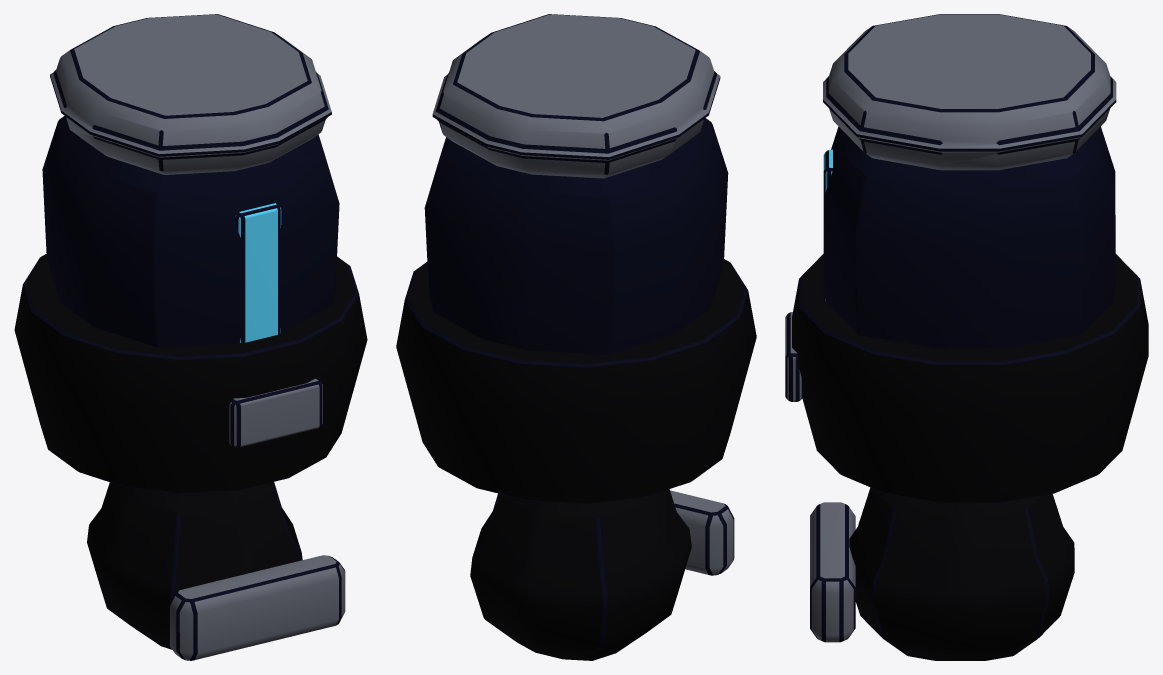
File: Ecos_LuvaL.fbx
3 views of the same model, side by side, from view 1: azimuth 30°, elevation 25°; view 2: azimuth 150°, elevation 25°; view 3: azimuth 270°, elevation 25° (orthographic). The views are drawn at different scales.
Parts seen in each view (by area): view 1: Piece; view 2: Piece; view 3: Piece.
Part boxes in pixels (<box>): Piece: <box>14,14,367,660</box>; Piece: <box>396,14,756,660</box>; Piece: <box>785,14,1148,660</box>.
Bounding box in the file's own units: 0.1962 × 0.3488 × 0.1991.
